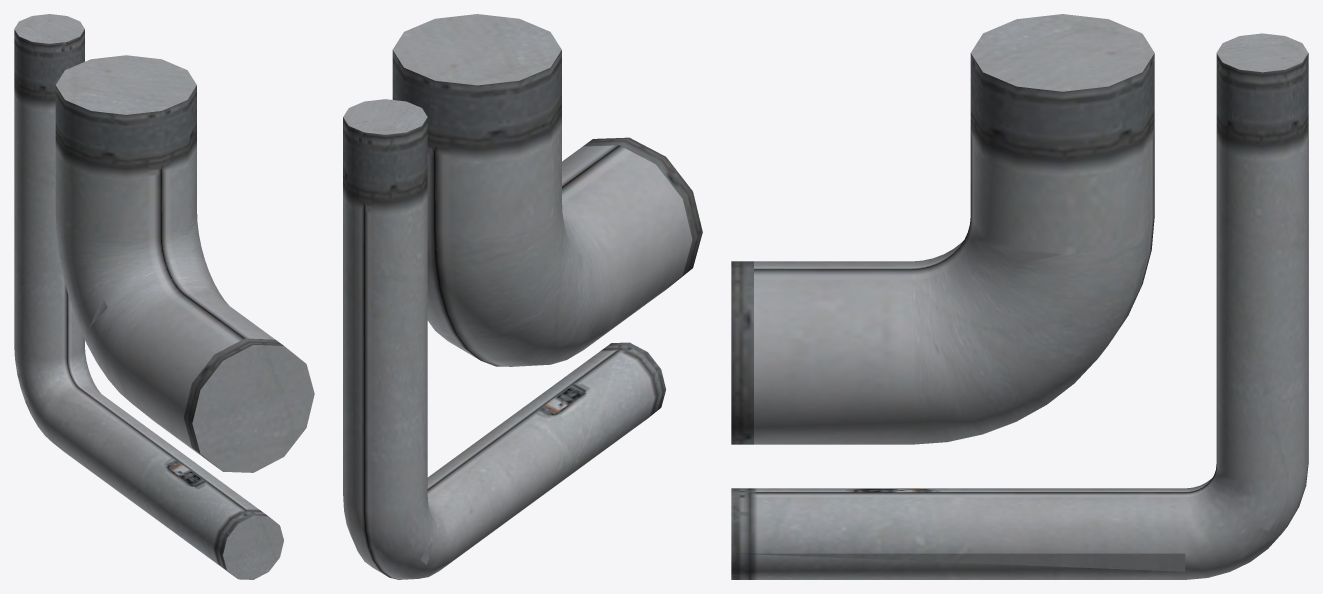
The model's file is Pipe_Bend_02Pipe_End_01.FBX.
The picture shows the model from 3 angles, left to right: view 1: azimuth 30°, elevation 25°; view 2: azimuth 150°, elevation 25°; view 3: azimuth 270°, elevation 25°; orthographic projection. The views are drawn at different scales.
Visible parts, largest first — view 1: Pipe_Bend_02Pipe_End_01; view 2: Pipe_Bend_02Pipe_End_01; view 3: Pipe_Bend_02Pipe_End_01.
Boxes of the visible parts, <box> form: Pipe_Bend_02Pipe_End_01: <box>14,14,314,579</box>; Pipe_Bend_02Pipe_End_01: <box>343,14,702,579</box>; Pipe_Bend_02Pipe_End_01: <box>731,14,1308,579</box>.
Size of the model in its own units: 0.4 by 1.25 by 1.25.
